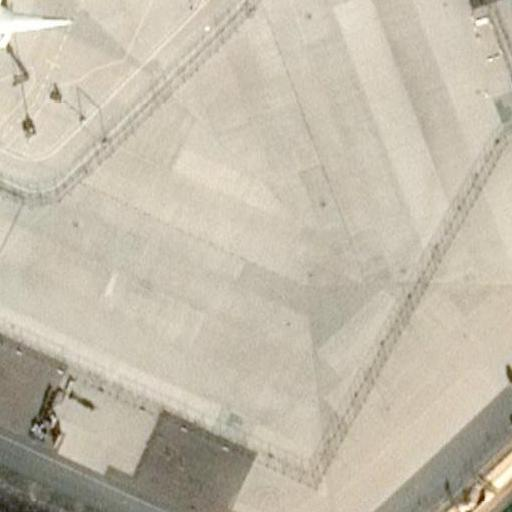Aircraft: (0, 0, 72, 91), (0, 0, 71, 89)
